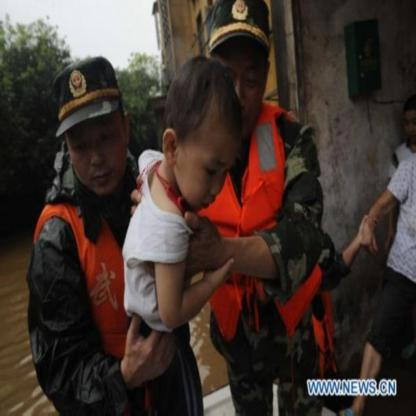face: (68, 110, 125, 195), (181, 117, 235, 206), (214, 46, 262, 138)
